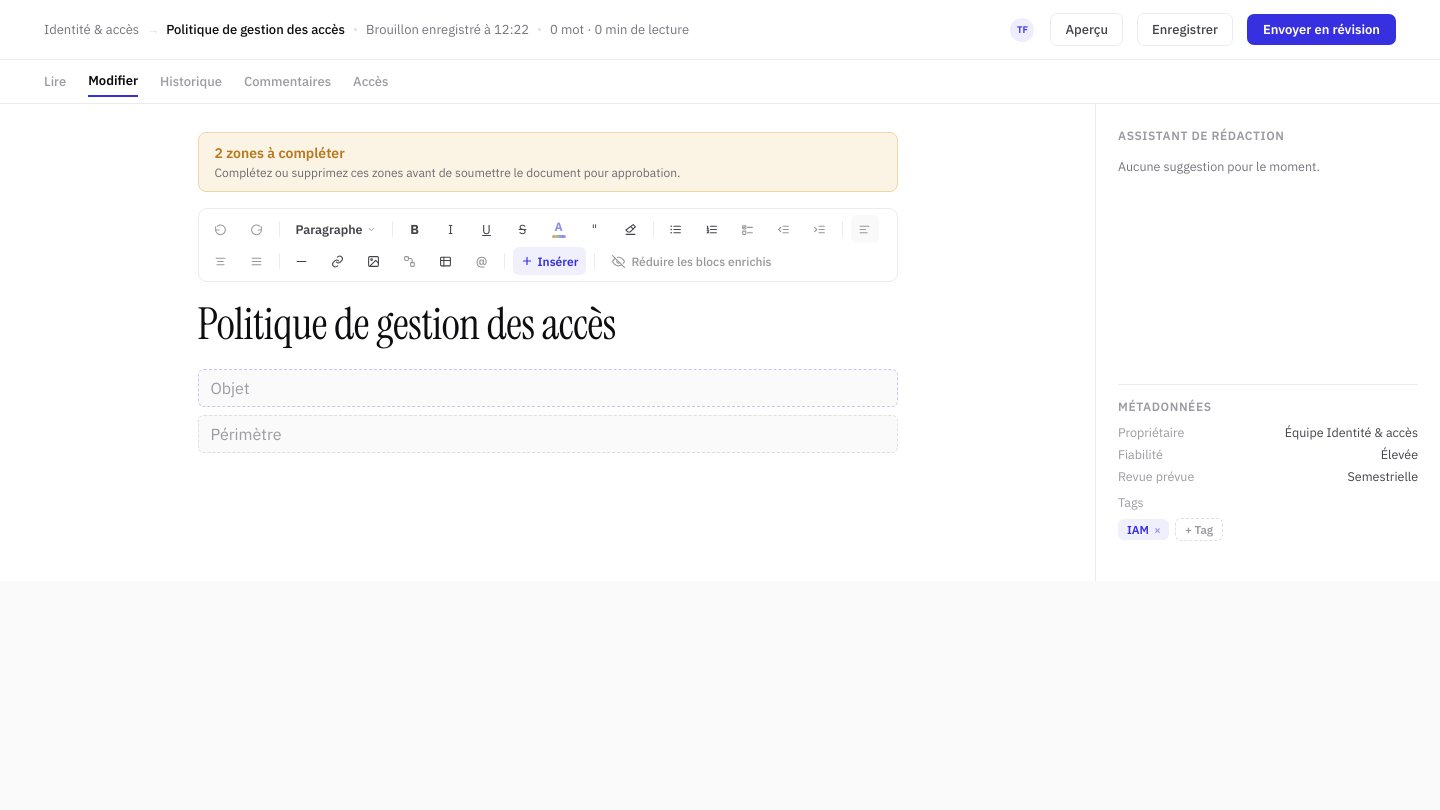
Test: DocumentEditPage — envoi en révision › affiche le message du 409 « zones à compléter »
Expected: the message with test id "placeholder-banner" shows "2 zones à compléter", [214,144,345,162]
Click the button with test id "edit-send-review" at (1322, 30), box [1247,14,1396,45]
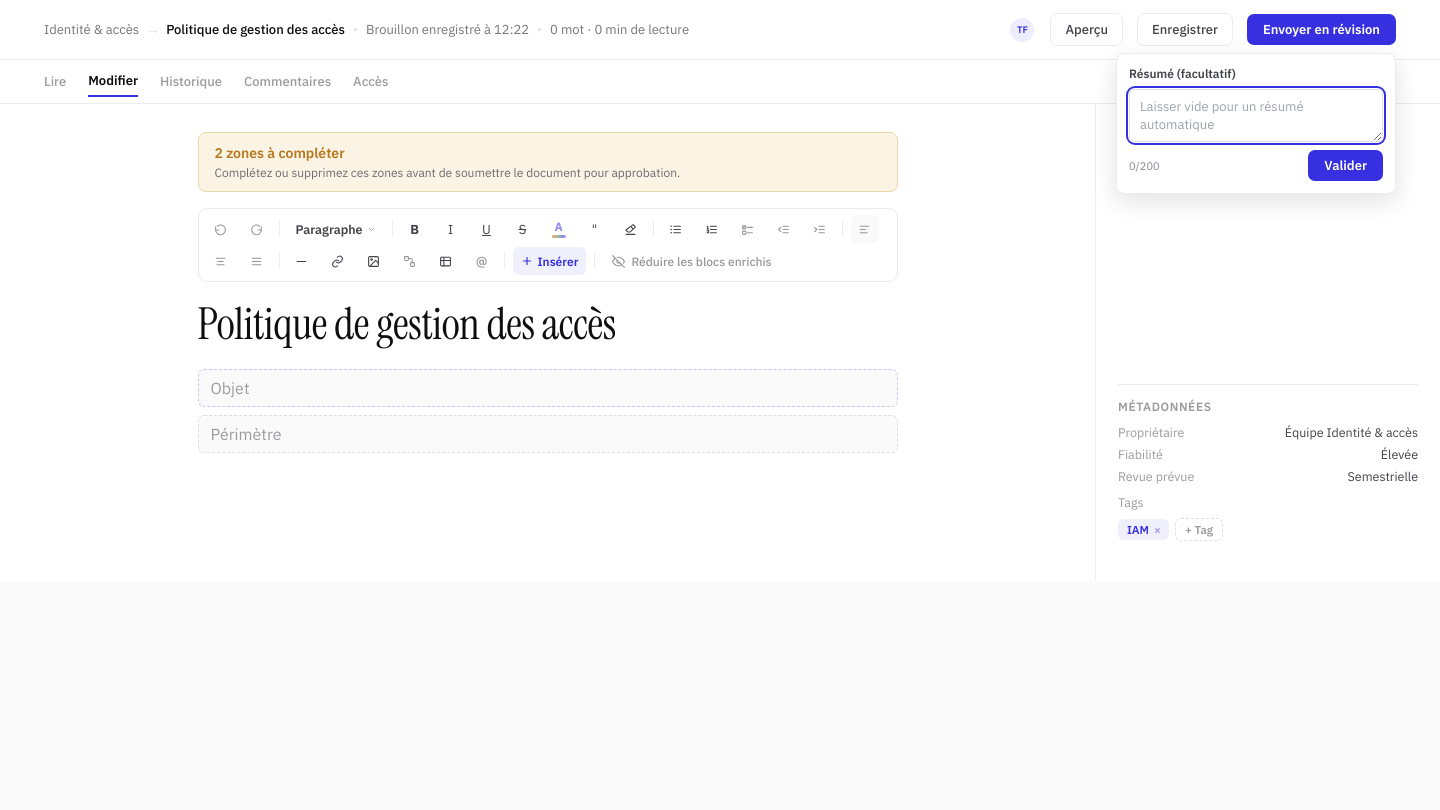
Click the button with test id "edit-send-review-confirm" at (1346, 166), box [1308,150,1383,181]
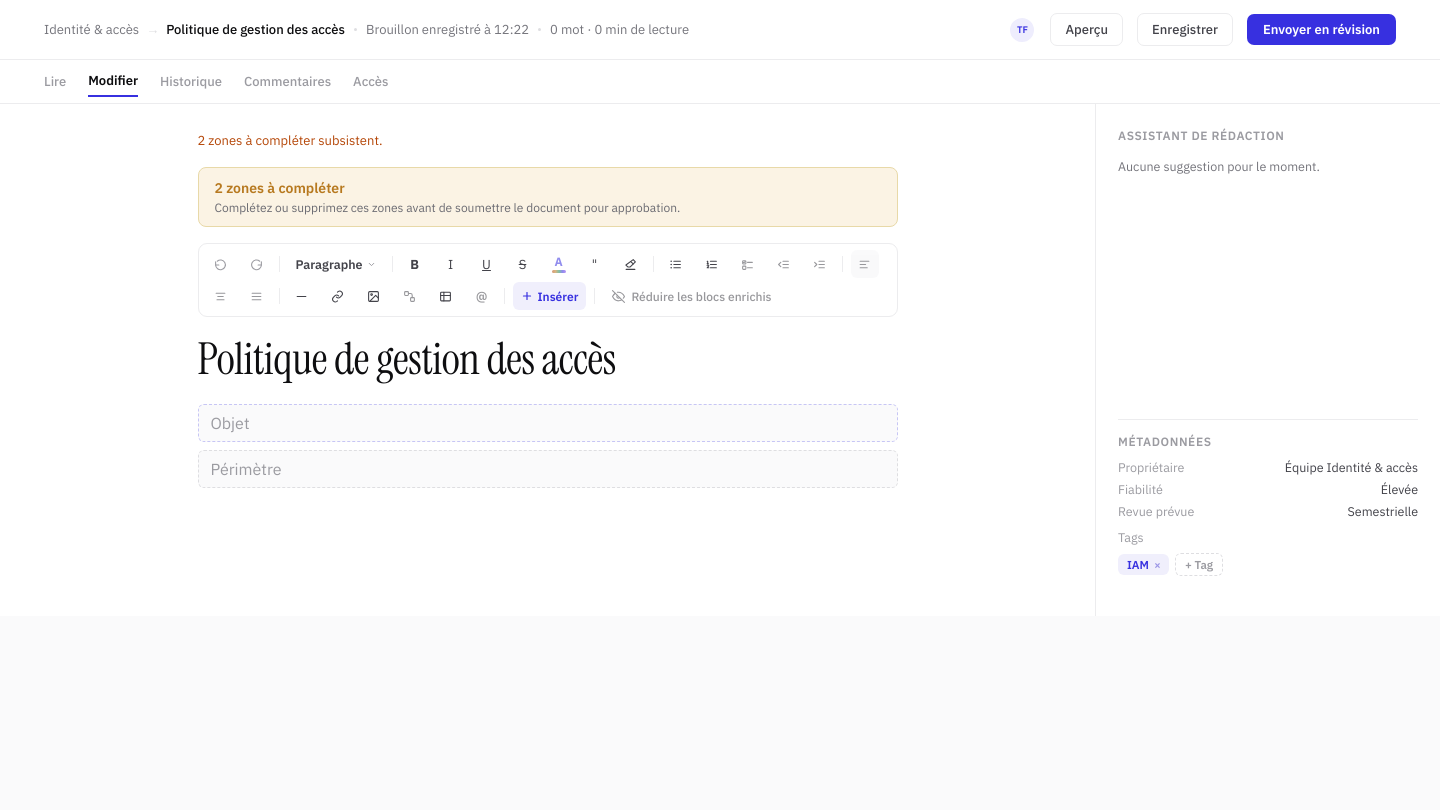
Now the message with test id "edit-approval-error" reads "2 zones à compléter subsistent.", box [198,132,382,149]
